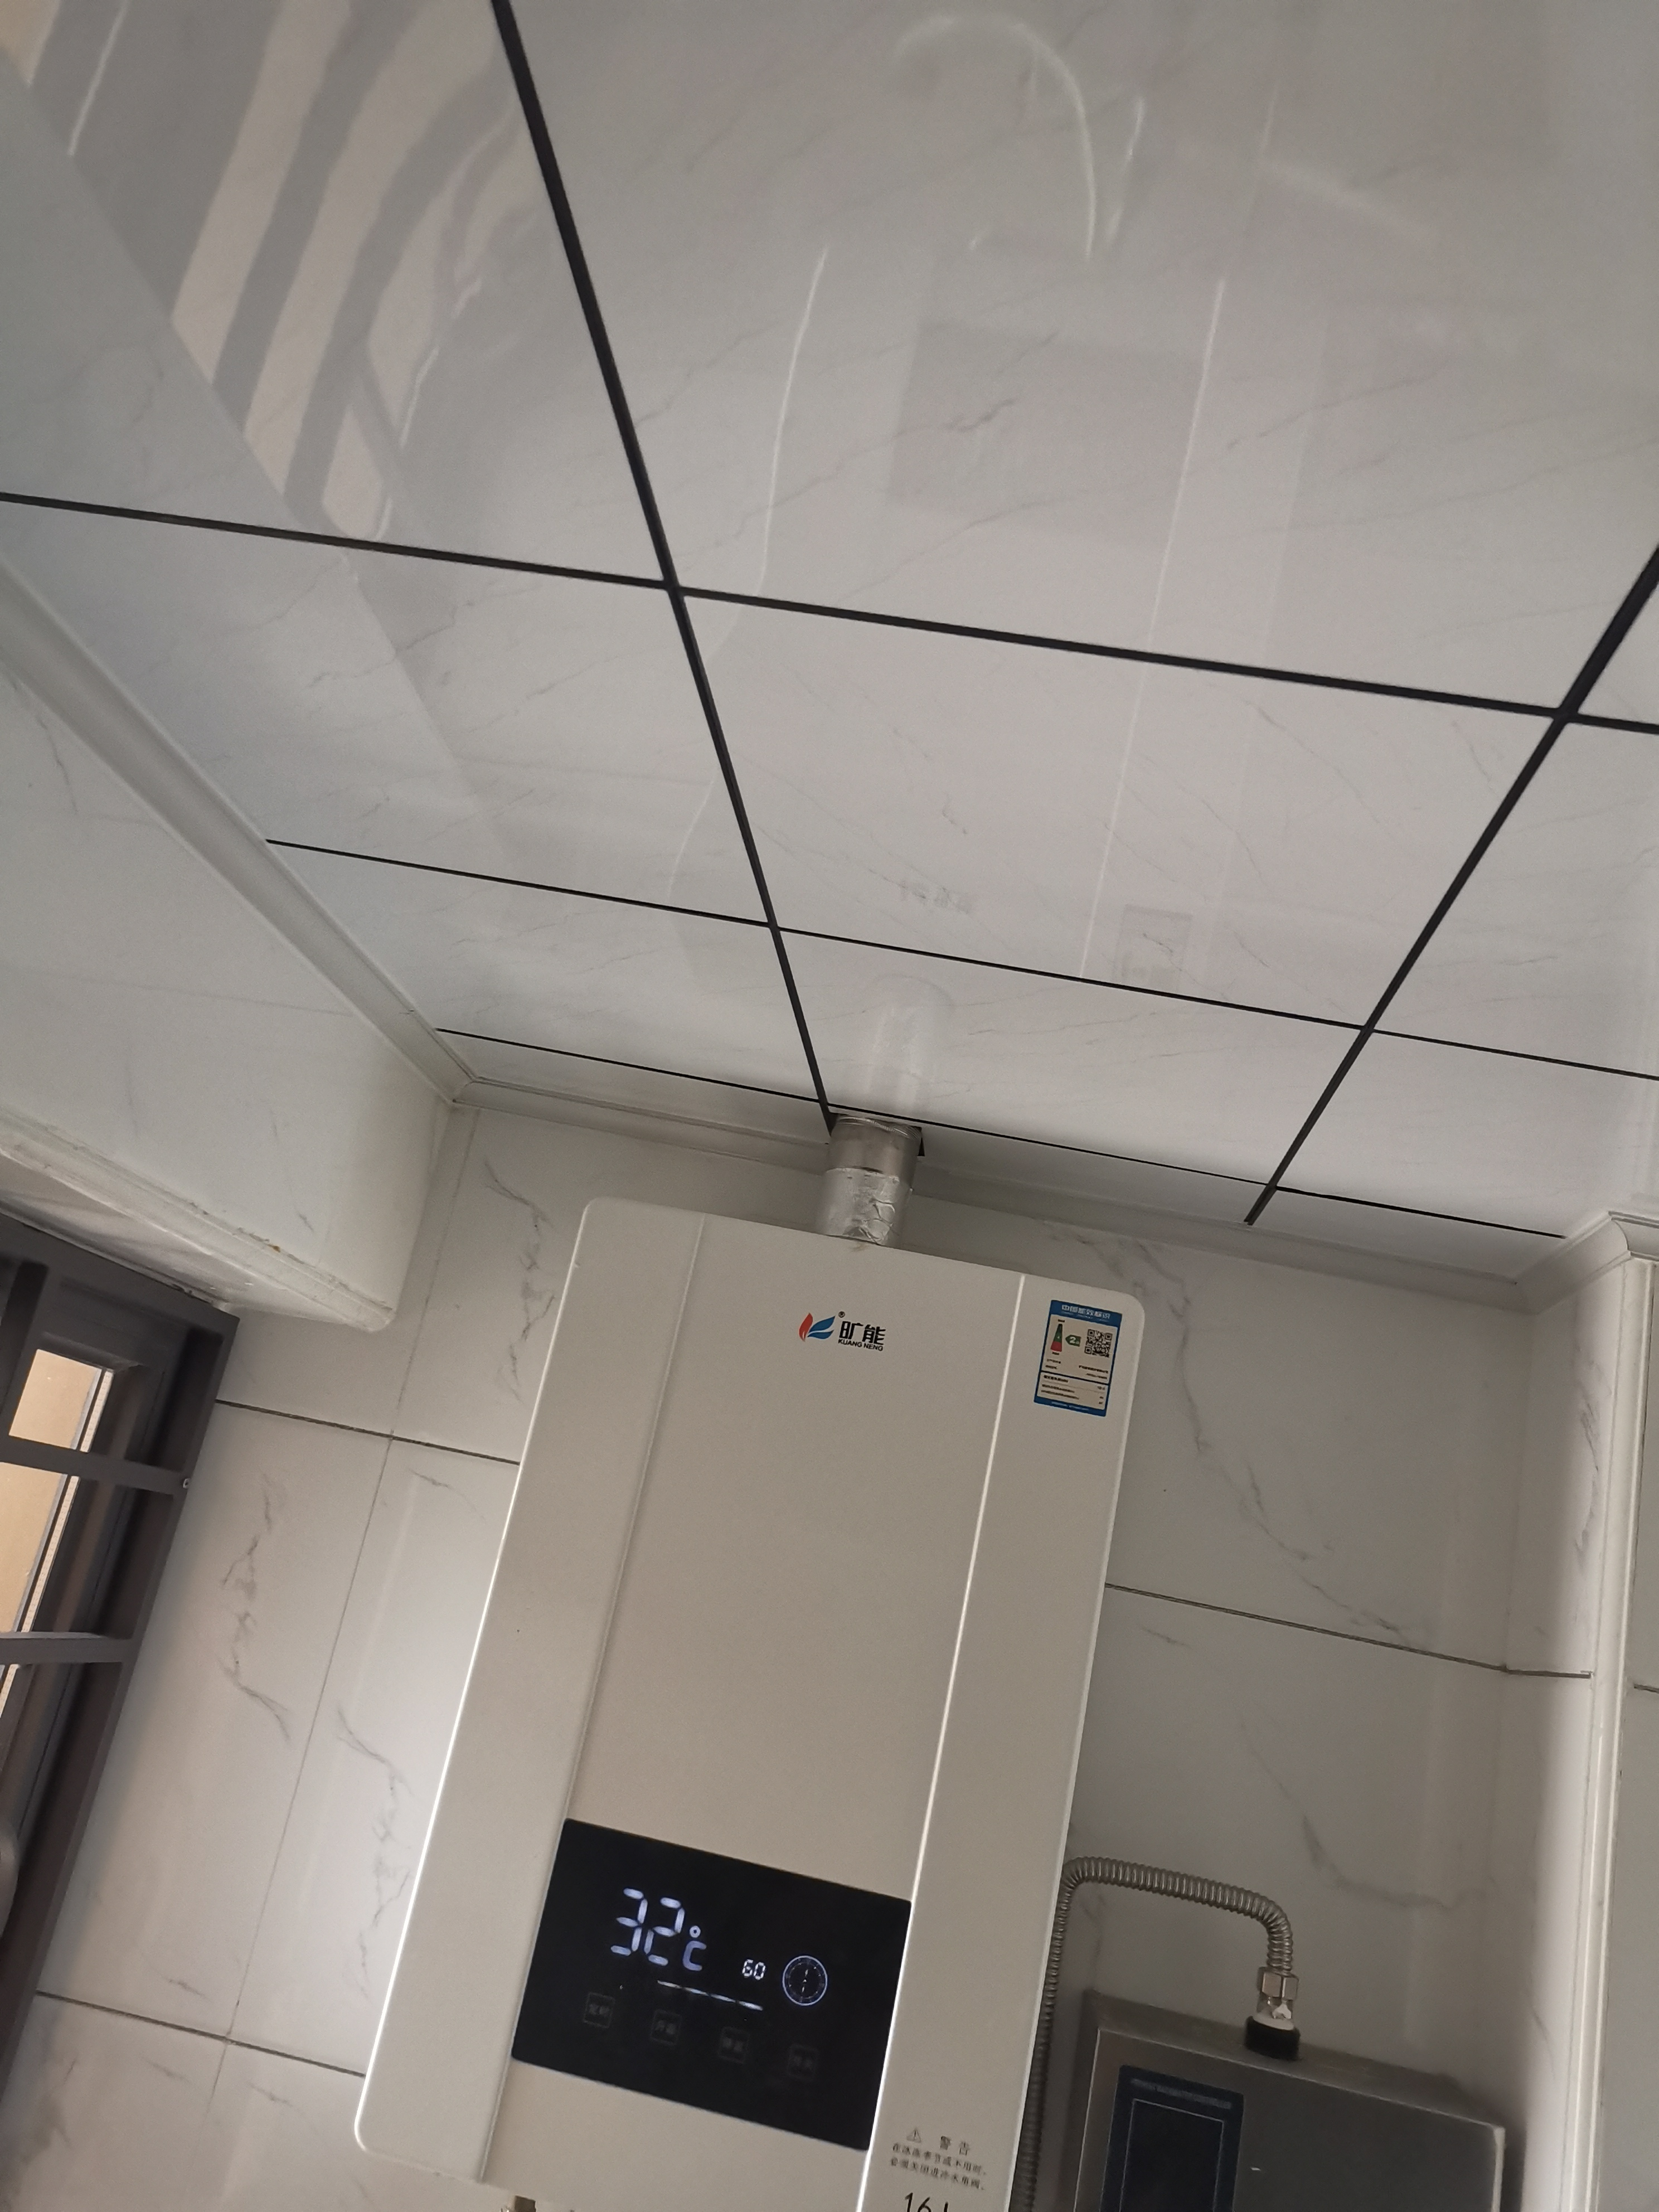loudou: (781, 1296, 917, 1367)
